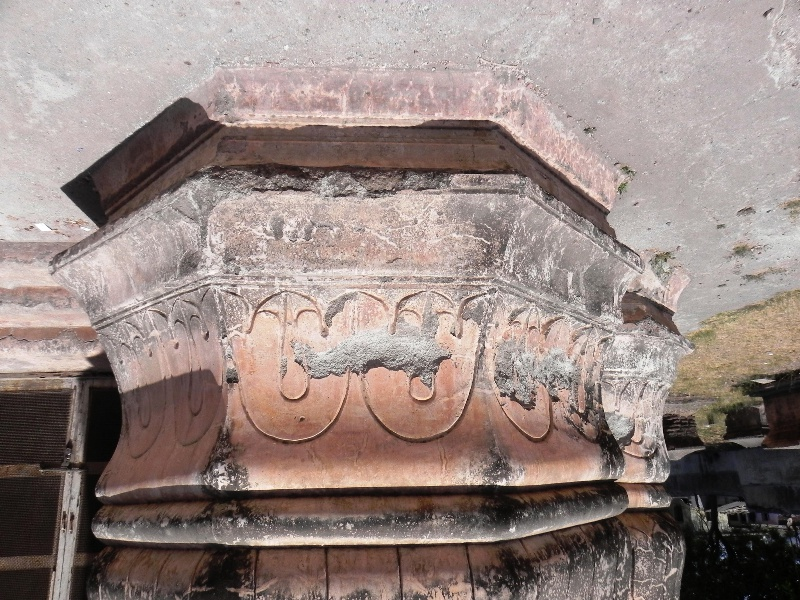Spalling: (290, 317, 460, 387), (208, 162, 465, 201), (492, 332, 585, 411), (643, 318, 669, 345)
